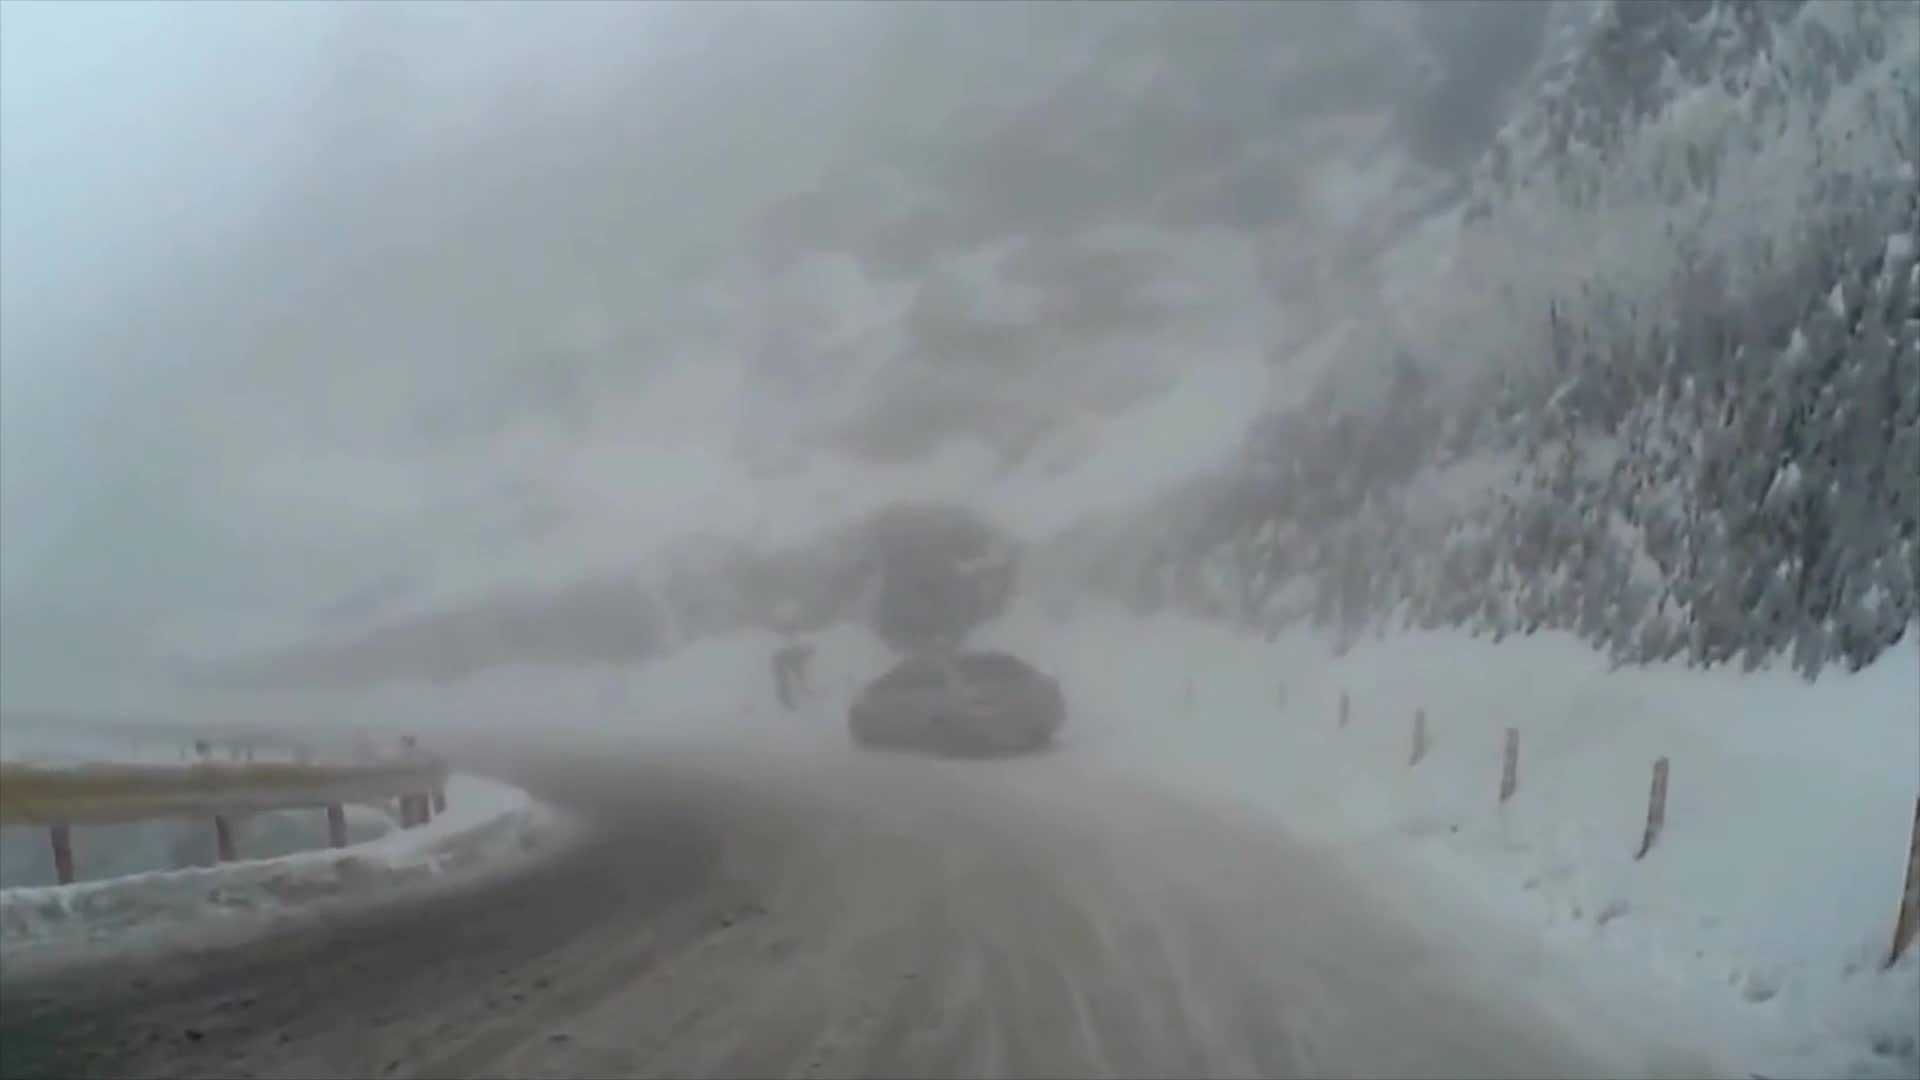pedestrian: (769, 643, 816, 713)
vehicle: (845, 652, 1063, 763)
